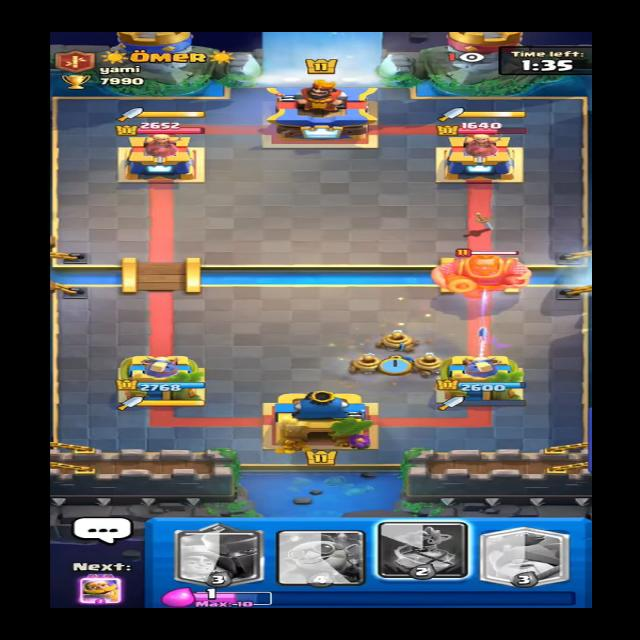royal-giant: (430, 242, 538, 294)
